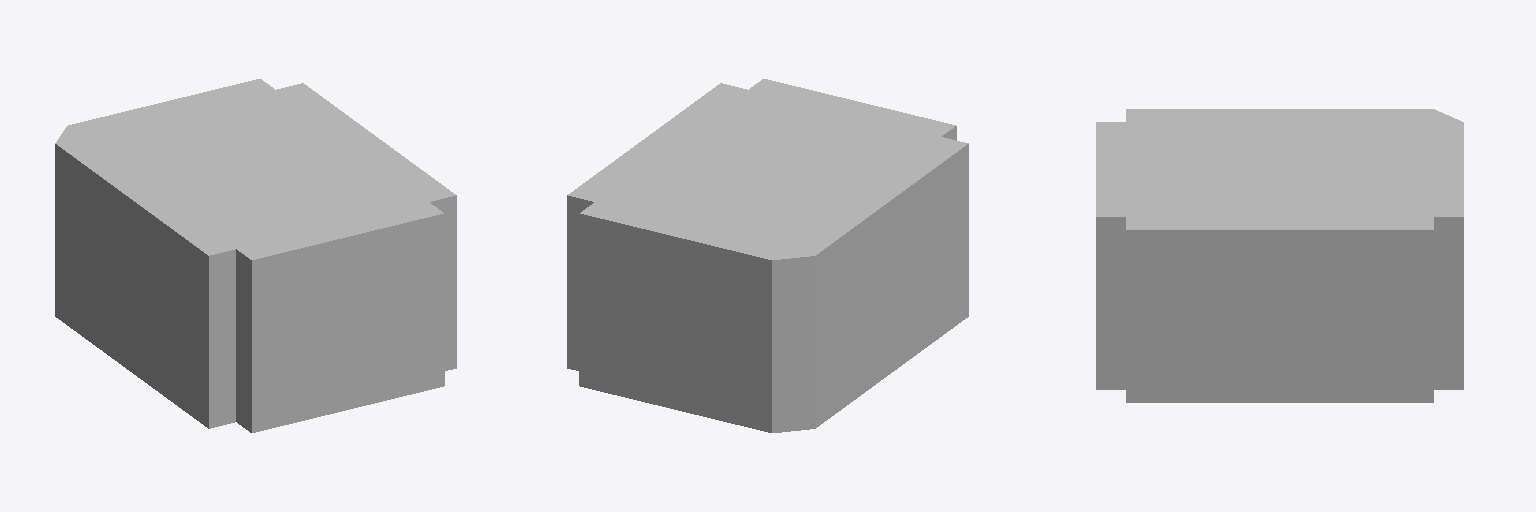
3 views of the same model, side by side, from view 1: azimuth 30°, elevation 25°; view 2: azimuth 150°, elevation 25°; view 3: azimuth 270°, elevation 25° (orthographic).
Visible parts, largest first — view 1: building_034; view 2: building_034; view 3: building_034.
Boxes of the visible parts, box(x1,y1,x2,y2) form: building_034: box(55, 79, 456, 432); building_034: box(567, 79, 968, 432); building_034: box(1096, 109, 1463, 402).
Size of the model in its own units: 5.78 by 3.85 by 7.43.